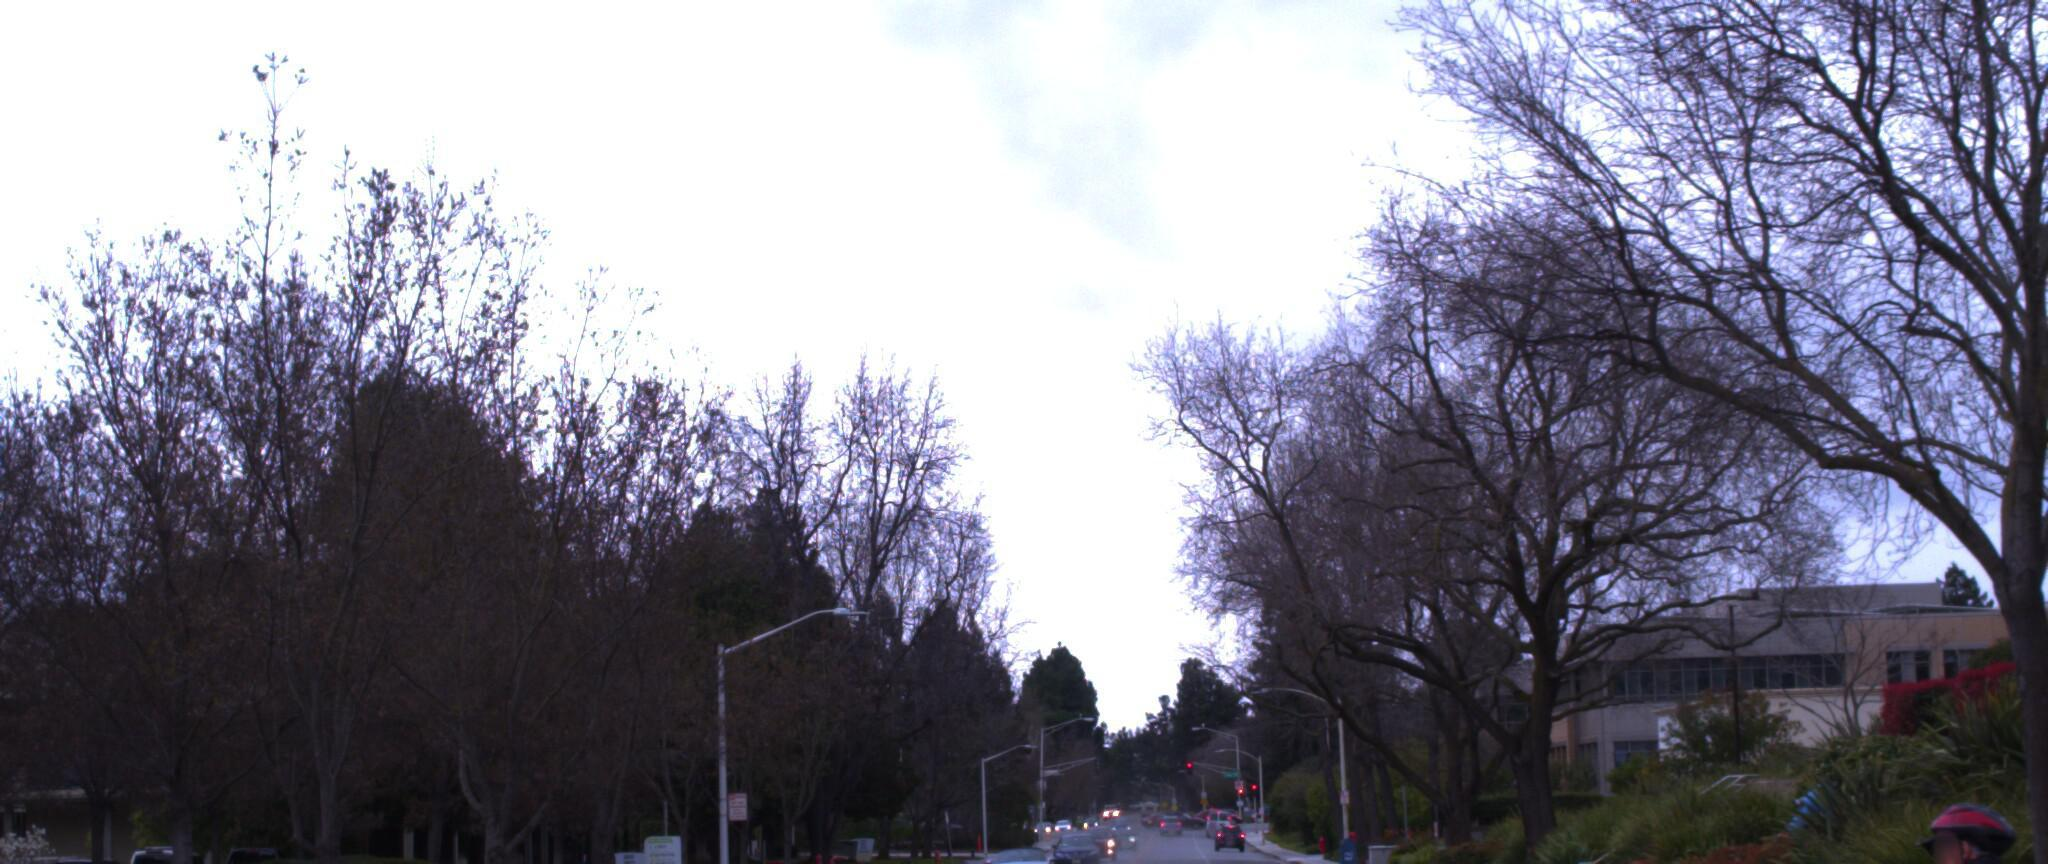bicycle: (1805, 737, 2048, 864)
car: (967, 829, 1041, 864)
